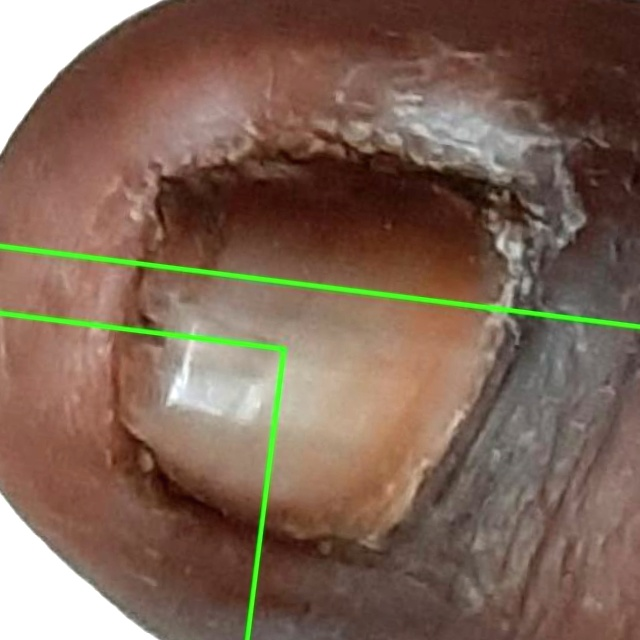Seborrheic Dermatitis: (0, 0, 639, 326), (0, 313, 283, 639)
